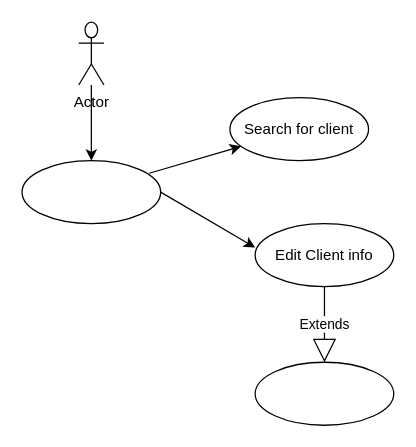
Some shapes in this 416 by 447 pixel diagram are drawn without their labels. Each missing label, with the centre of its shape:
"Update client info" belongs at (x=91, y=191).
"Verify updated info" belongs at (x=324, y=393).
